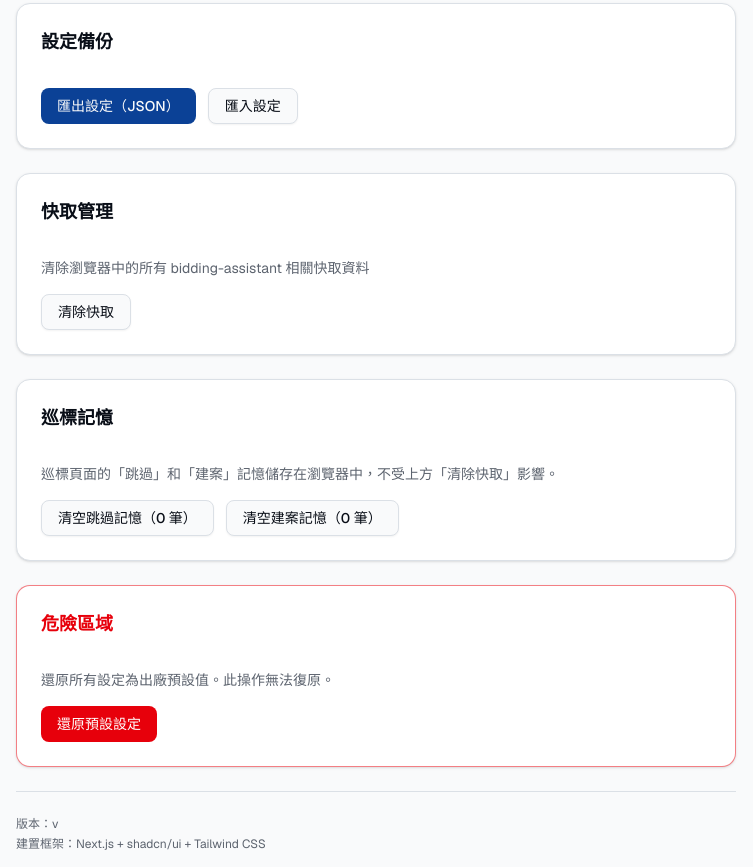
Test: MaintenancePage — 還原預設設定（二步確認） › 第一次點擊：按鈕文字改為「確認還原？再按一次」，不呼叫 resetSettings
The width and height of the screenshot is (753, 867).
(page scrolled)
Step 1. Click the button "還原預設設定" → {"x": 99, "y": 724}, box [41,706,157,742]
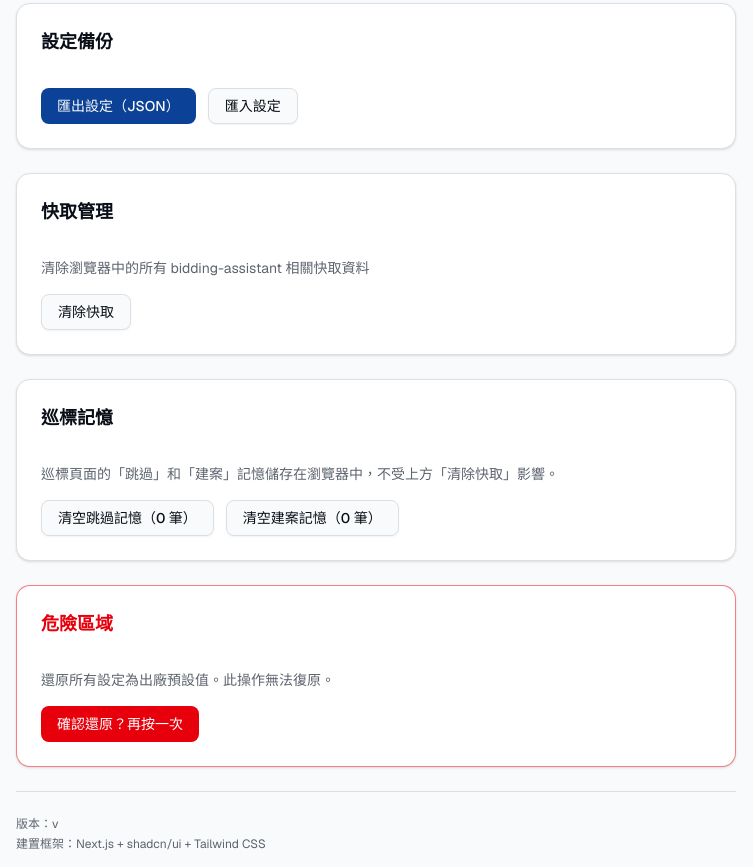
Check: the button "確認還原？再按一次" is shown, box [41,706,199,742]
